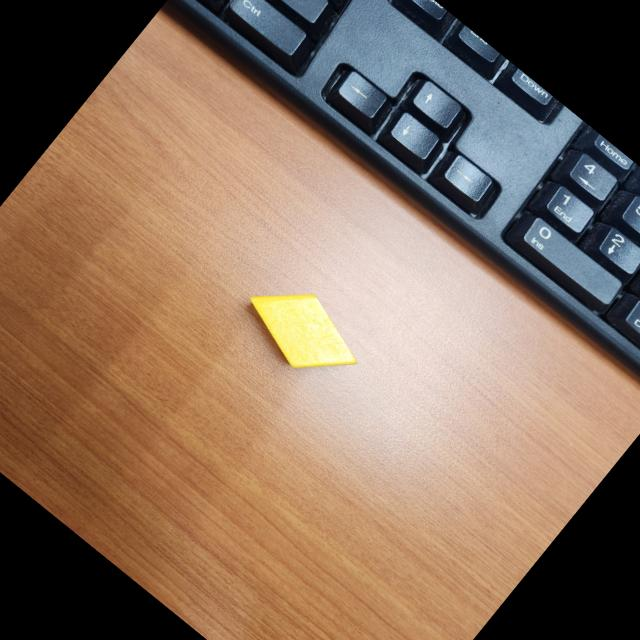yellow: (232, 263, 376, 399)
